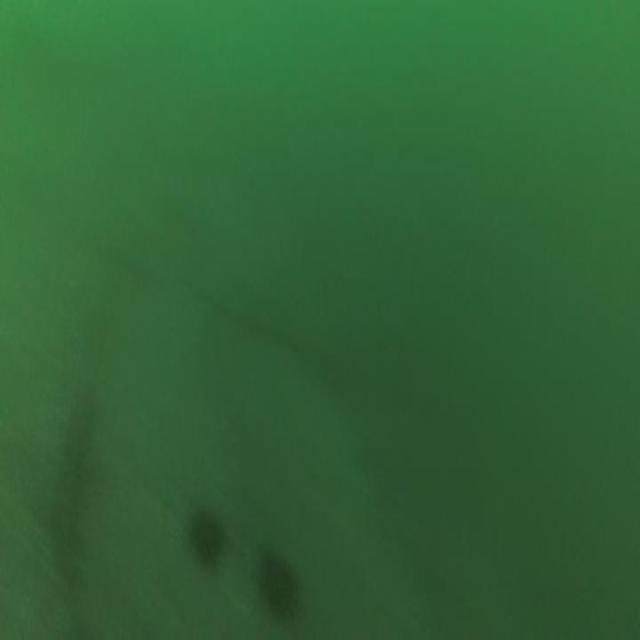echinus: (249, 538, 309, 638), (178, 498, 228, 577)
